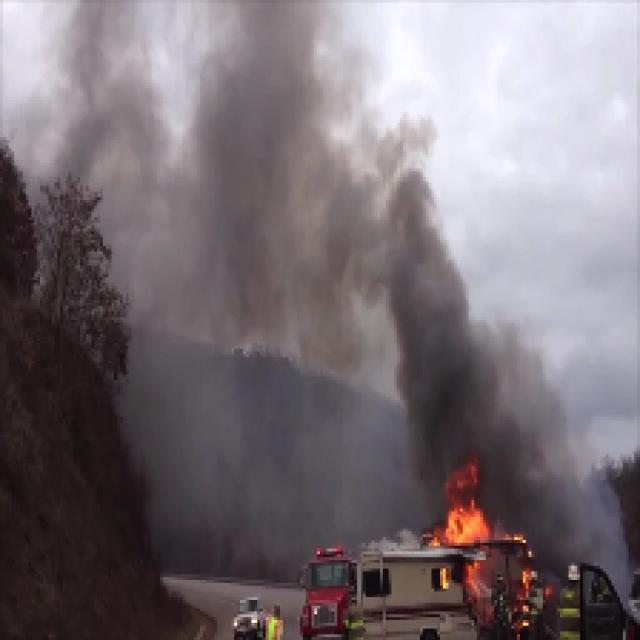fire: (424, 498, 499, 552)
smoke: (83, 0, 369, 357), (384, 160, 557, 472)
